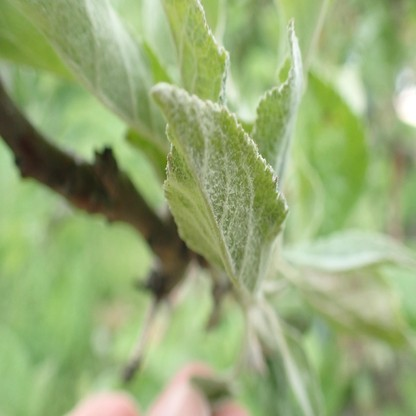powder: (150, 86, 288, 299), (0, 1, 171, 147), (254, 18, 304, 189), (181, 0, 231, 107)
